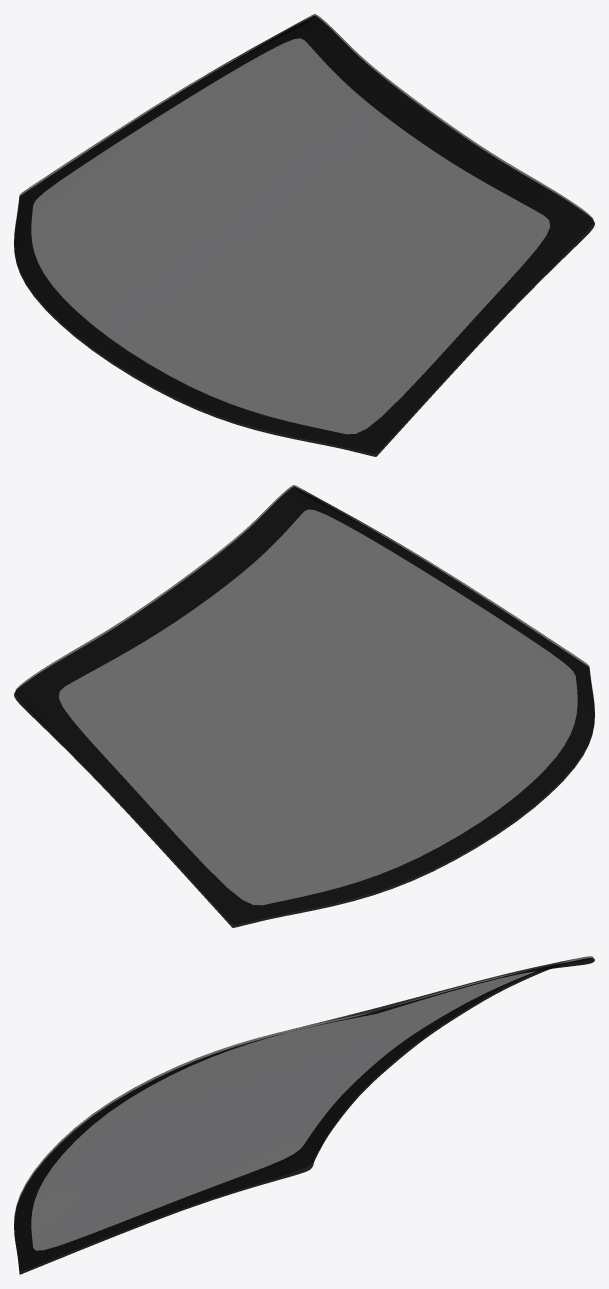
Rendered from Windshield.obj.
3 views of the same model, one above another, from view 1: azimuth 30°, elevation 25°; view 2: azimuth 150°, elevation 25°; view 3: azimuth 330°, elevation 25° (orthographic).
Parts seen in each view (by area): view 1: Window_Mesh.040, Window.001_Mesh.061; view 2: Window_Mesh.040, Window.001_Mesh.061; view 3: Window_Mesh.040, Window.001_Mesh.061.
Boxes of the visible parts, box(x1,y1,x2,y2) form: Window_Mesh.040: box(14, 14, 593, 453); Window.001_Mesh.061: box(14, 16, 594, 456); Window_Mesh.040: box(15, 485, 594, 924); Window.001_Mesh.061: box(14, 487, 594, 927); Window_Mesh.040: box(14, 956, 593, 1271); Window.001_Mesh.061: box(14, 958, 594, 1274).
Size of the model in its own units: 1.78 by 0.7714 by 3.04.
